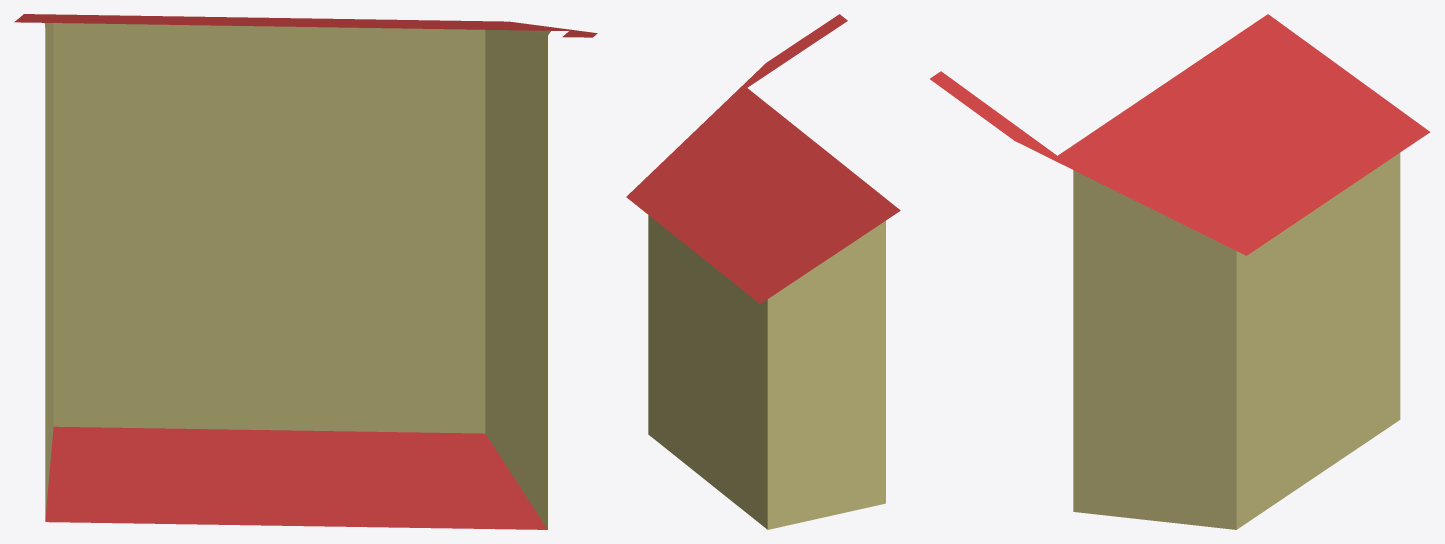
3 views of the same model, side by side, from view 1: azimuth 30°, elevation 25°; view 2: azimuth 150°, elevation 25°; view 3: azimuth 270°, elevation 25° (orthographic). The views are drawn at different scales.
Bounding box in the file's own units: 9.01 × 11.43 × 10.4.
